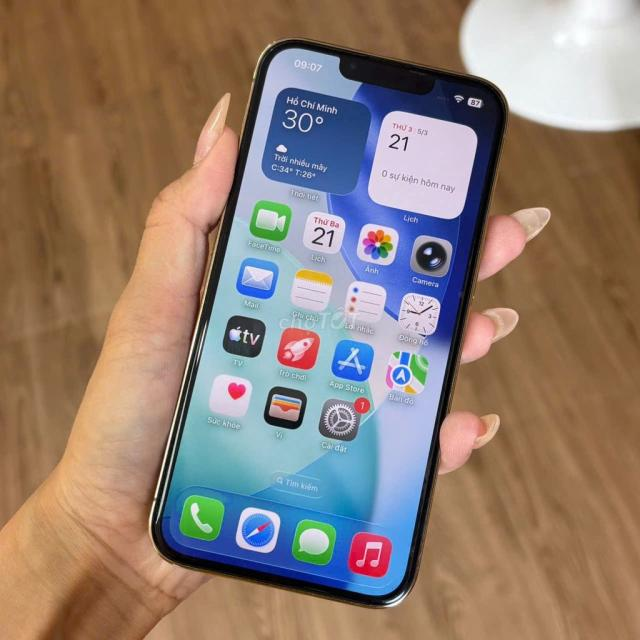gen_12_13: (146, 36, 510, 614)
